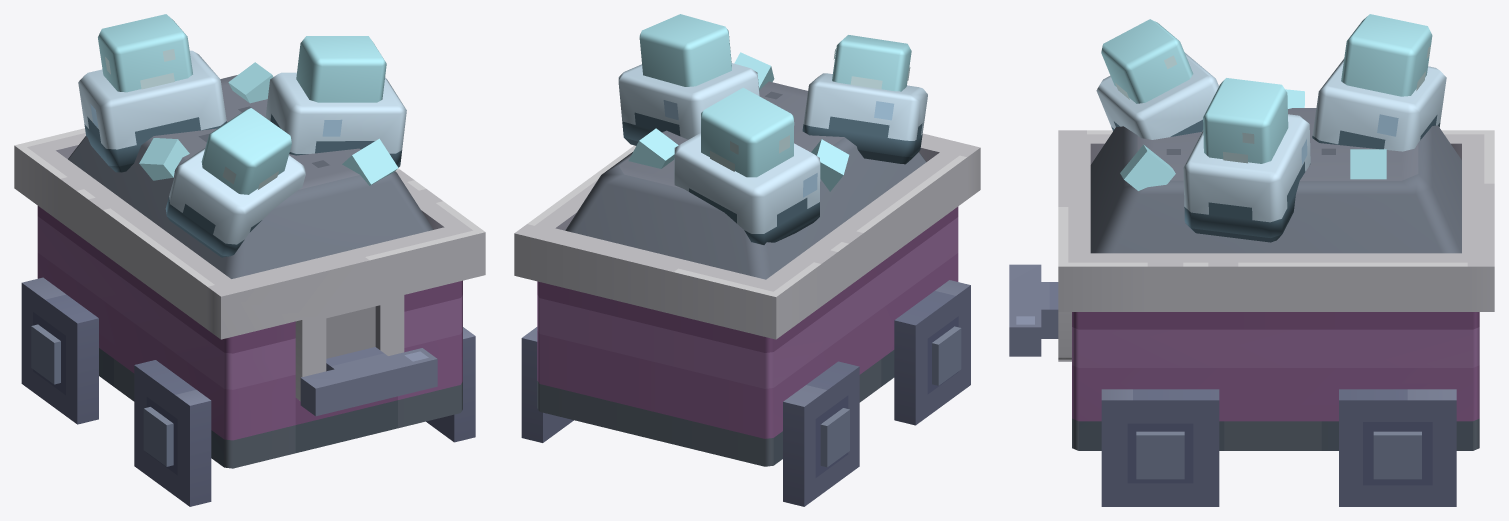
The model's file is gdMinecartPurple.obj.
The picture shows the model from 3 angles, left to right: view 1: azimuth 30°, elevation 25°; view 2: azimuth 150°, elevation 25°; view 3: azimuth 270°, elevation 25°; orthographic projection. The views are drawn at different scales.
Parts seen in each view (by area): view 1: gdMinecartPurple, gdMinecartPurple_Ore; view 2: gdMinecartPurple, gdMinecartPurple_Ore; view 3: gdMinecartPurple, gdMinecartPurple_Ore.
Part boxes in pixels (x1,y1,x2,y2): gdMinecartPurple: [14, 128, 485, 506]; gdMinecartPurple_Ore: [68, 14, 433, 278]; gdMinecartPurple: [514, 133, 980, 506]; gdMinecartPurple_Ore: [565, 14, 927, 279]; gdMinecartPurple: [1009, 130, 1494, 506]; gdMinecartPurple_Ore: [1090, 14, 1461, 253].
Size of the model in its own units: 3.72 by 4.28 by 4.94.
Materials: 1 (1 with a texture image).
